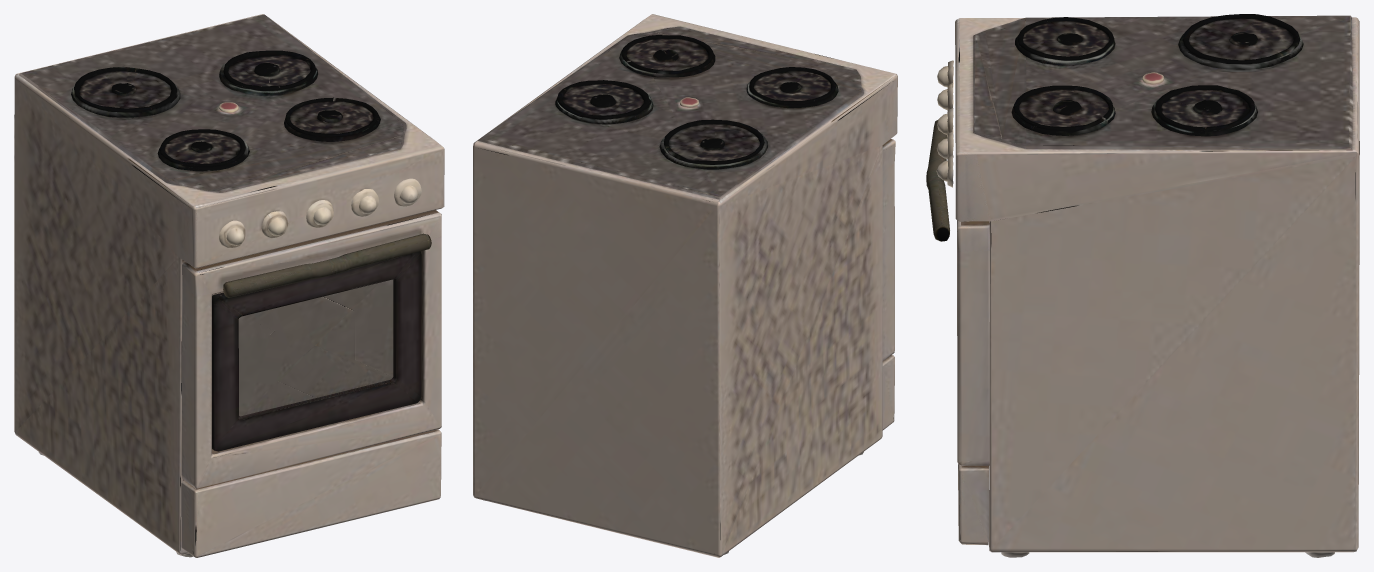
Rendered from kitchen_stove.glb.
3 views of the same model, side by side, from view 1: azimuth 30°, elevation 25°; view 2: azimuth 150°, elevation 25°; view 3: azimuth 270°, elevation 25° (orthographic). The views are drawn at different scales.
Visible parts, largest first — view 1: geometry_0; view 2: geometry_0; view 3: geometry_0.
Boxes of the visible parts, box(x1,y1,x2,y2) form: geometry_0: box(14, 14, 444, 557); geometry_0: box(473, 14, 897, 557); geometry_0: box(926, 14, 1359, 557).
Bounding box in the file's own units: 0.6917 × 0.9984 × 0.9284.
Materials: 1 (1 with a texture image).
